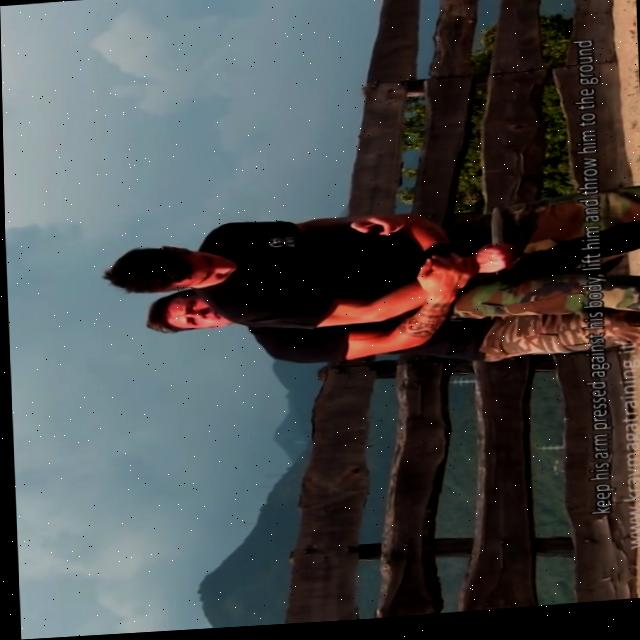knife: (485, 211, 506, 252)
